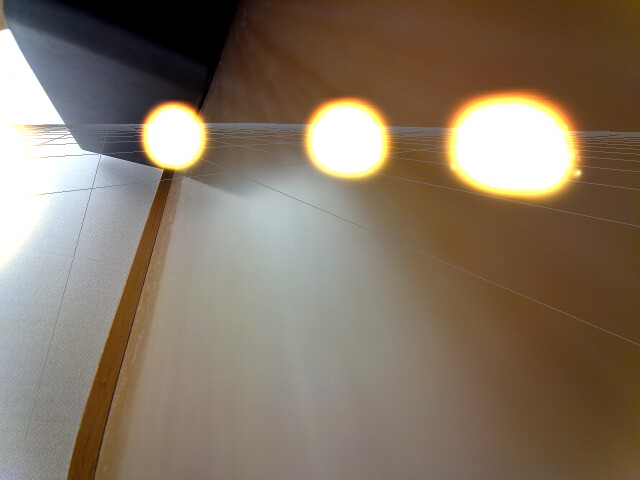firebig: (430, 79, 591, 206)
